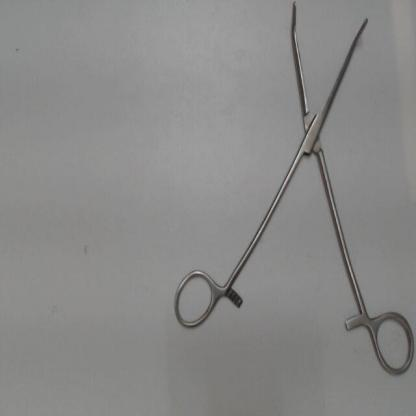Lahey Forceps: (166, 1, 415, 385)
